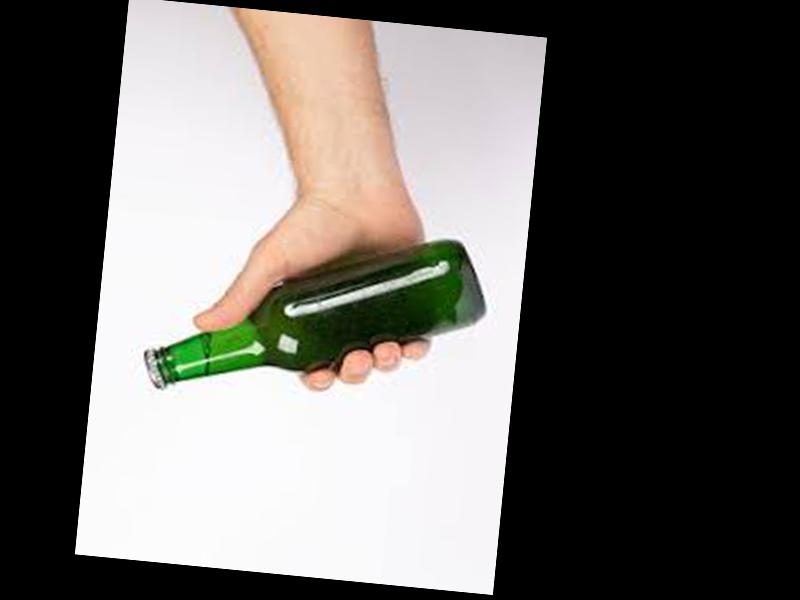Beer: (139, 211, 488, 418)
